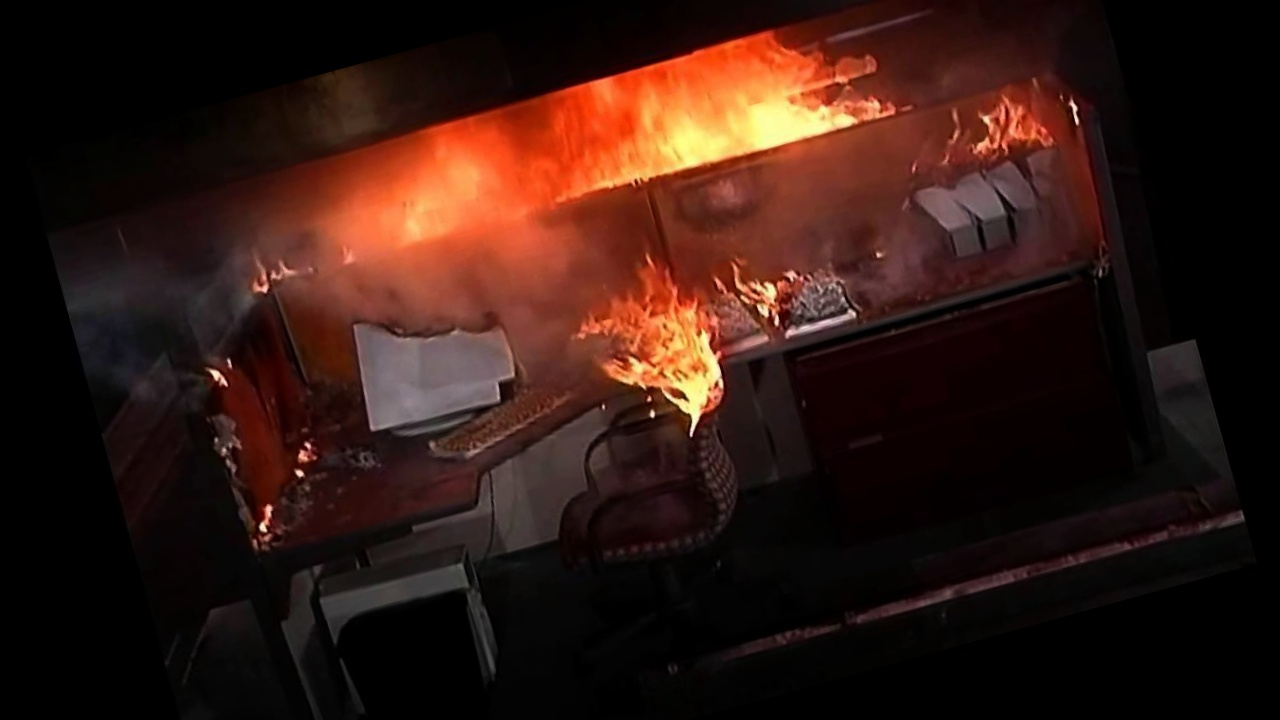fire: (342, 18, 869, 291), (571, 252, 746, 441)
